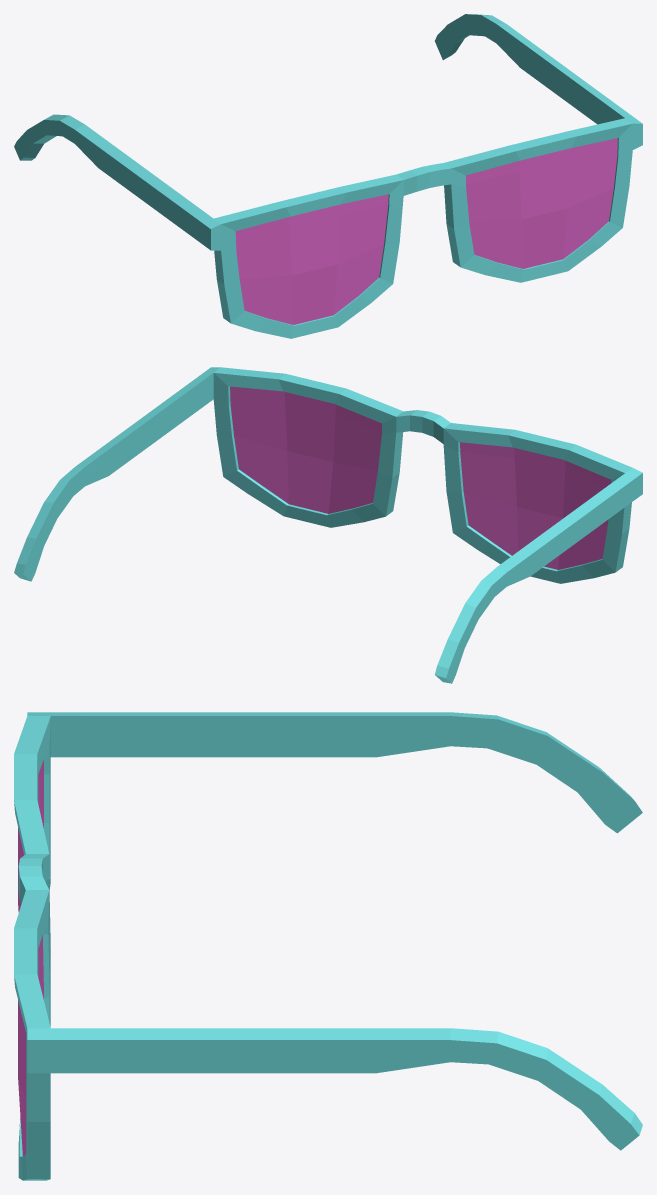
The model's file is glasses.glb.
3 renders of one model, top to bottom at view 1: azimuth 30°, elevation 25°; view 2: azimuth 150°, elevation 25°; view 3: azimuth 270°, elevation 25°, orthographic. The views are drawn at different scales.
Visible parts, largest first — view 1: Sunglasses_01_Plane; view 2: Sunglasses_01_Plane; view 3: Sunglasses_01_Plane.
Boxes of the visible parts, x1,y1,x2,y2 form: Sunglasses_01_Plane: (14, 14, 642, 338); Sunglasses_01_Plane: (14, 367, 642, 683); Sunglasses_01_Plane: (14, 712, 642, 1180).
Bounding box in the file's own units: 56.97 × 16.92 × 46.19.
